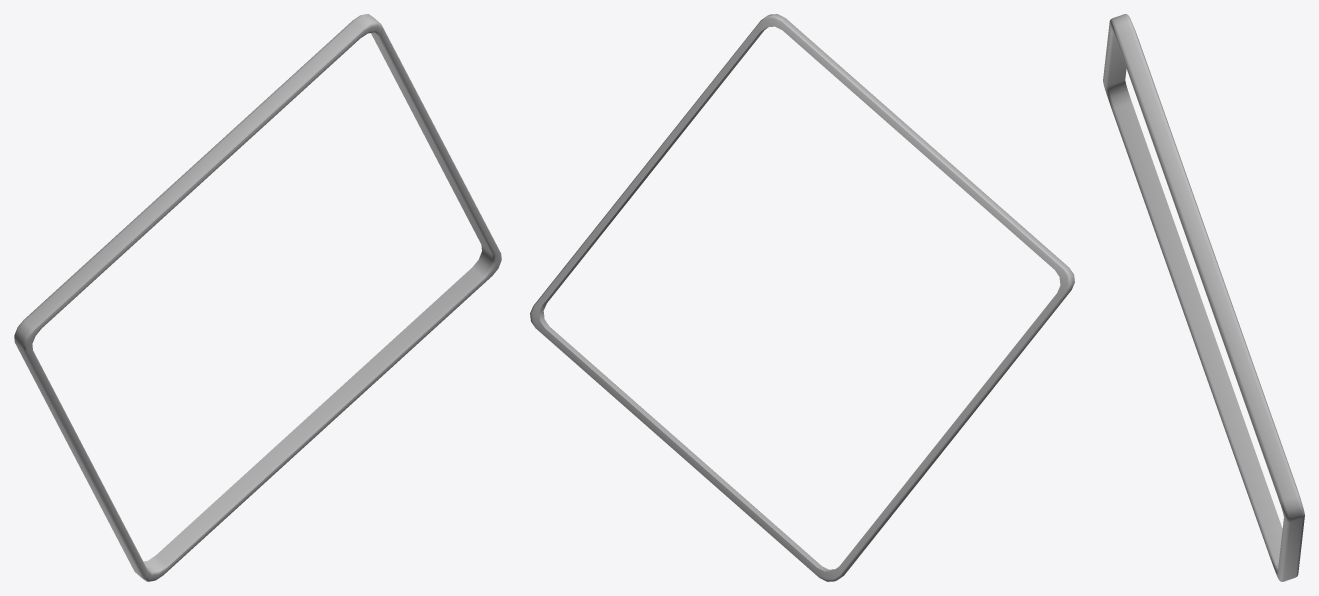
3 views of the same model, side by side, from view 1: azimuth 30°, elevation 25°; view 2: azimuth 150°, elevation 25°; view 3: azimuth 270°, elevation 25° (orthographic). The views are drawn at different scales.
Visible parts, largest first — view 1: Cube.007; view 2: Cube.007; view 3: Cube.007.
Part boxes in pixels (<box>): Cube.007: <box>14,14,501,581</box>; Cube.007: <box>530,14,1074,581</box>; Cube.007: <box>1103,14,1304,581</box>.
Size of the model in its own units: 1.29 by 1.28 by 0.3682.
Materials: 1 (1 with a texture image).
